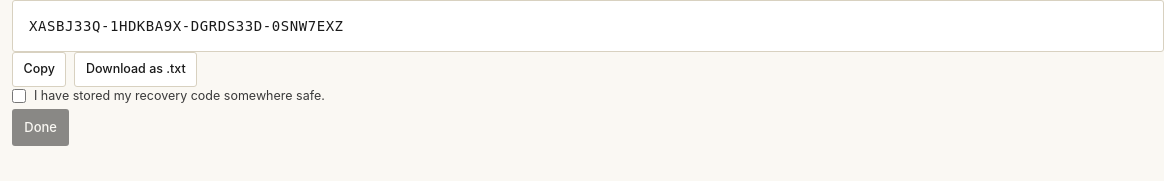
Test case: <RecoveryCodeCard> › Copy button: surfaces fallback note when navigator.clipboard is unavailable
Click the button "Copy": (39, 70) [12, 52, 66, 87]
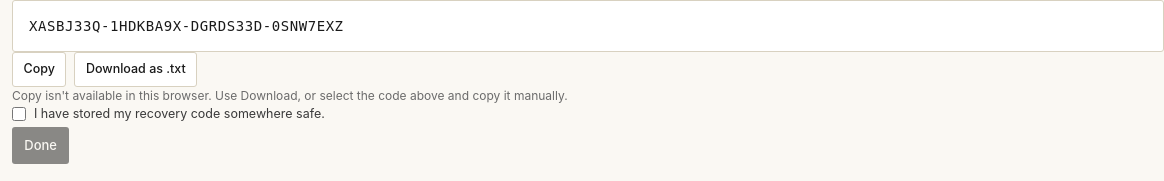
Expected: the message shows "Copy isn.t available", [12, 88, 568, 103]
